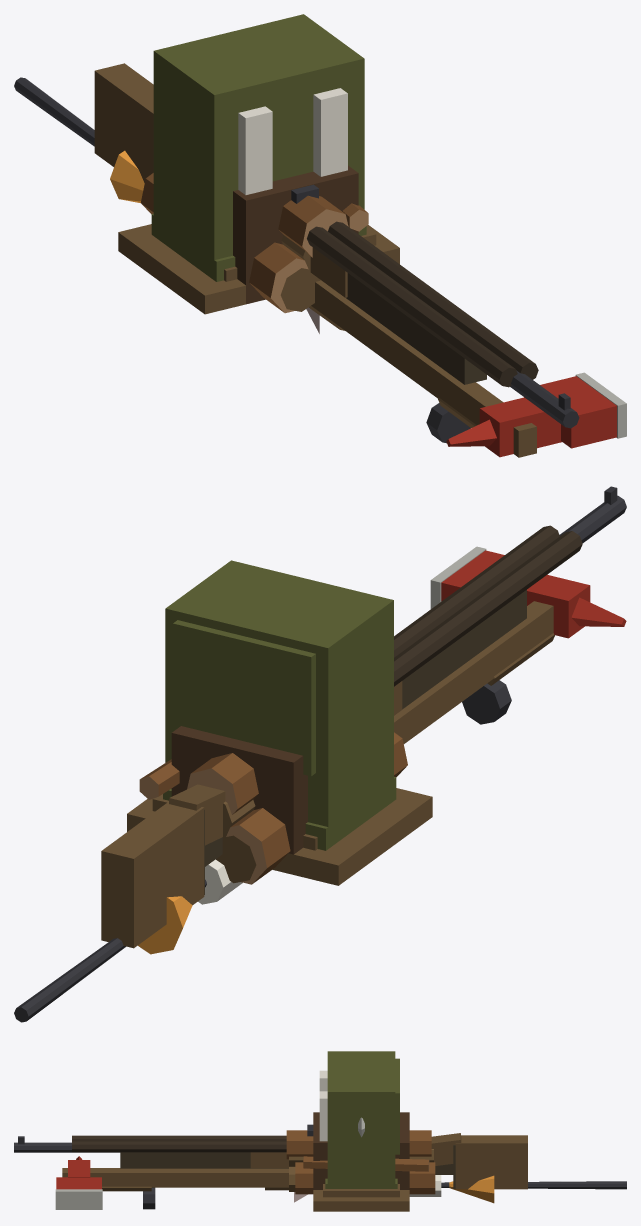
Rendered from items.glb.
3 renders of one model, top to bottom at view 1: azimuth 30°, elevation 25°; view 2: azimuth 150°, elevation 25°; view 3: azimuth 270°, elevation 25°, orthographic. The views are drawn at different scales.
Visible parts, largest first — view 1: backpack, shotgun, axe, campfire_kit, deer_pelt, rifle, fishing_rod, wood, torch; view 2: backpack, shotgun, campfire_kit, axe, deer_pelt, rifle, fishing_rod, torch, wood; view 3: backpack, shotgun, axe, campfire_kit, rifle, deer_pelt, fishing_rod, torch, wood.
Boxes of the visible parts, x1,y1,x2,y2 form: backpack: (153, 14, 364, 279); shotgun: (94, 63, 538, 387); axe: (311, 280, 626, 457); campfire_kit: (140, 165, 368, 313); deer_pelt: (118, 224, 399, 314); rifle: (346, 273, 579, 428); fishing_rod: (14, 77, 476, 443); wood: (280, 235, 320, 311); torch: (110, 150, 344, 330); backpack: (165, 560, 393, 848); shotgun: (101, 525, 582, 948); campfire_kit: (139, 726, 407, 884); axe: (394, 546, 626, 743); deer_pelt: (127, 788, 432, 885); rifle: (204, 486, 626, 894); fishing_rod: (14, 633, 554, 1022); torch: (138, 859, 242, 954); wood: (216, 800, 256, 883); backpack: (319, 1051, 399, 1188); shotgun: (72, 1133, 527, 1189); axe: (55, 1156, 288, 1209); campfire_kit: (286, 1112, 435, 1194); rifle: (14, 1136, 455, 1188); deer_pelt: (313, 1184, 409, 1211); fishing_rod: (102, 1181, 626, 1209); torch: (265, 1175, 494, 1203); wood: (289, 1149, 433, 1191).
Bounding box in the file's own units: 0.26 × 0.314 × 1.27.
